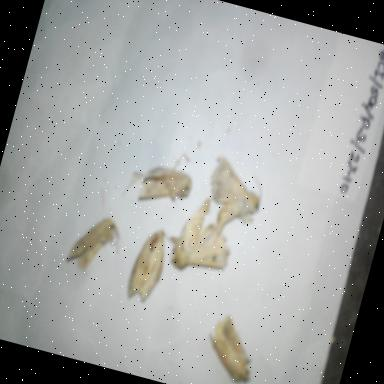abw: (168, 186, 250, 280), (192, 148, 276, 238), (60, 201, 132, 282), (197, 303, 268, 384), (118, 219, 178, 309), (132, 156, 198, 219)
